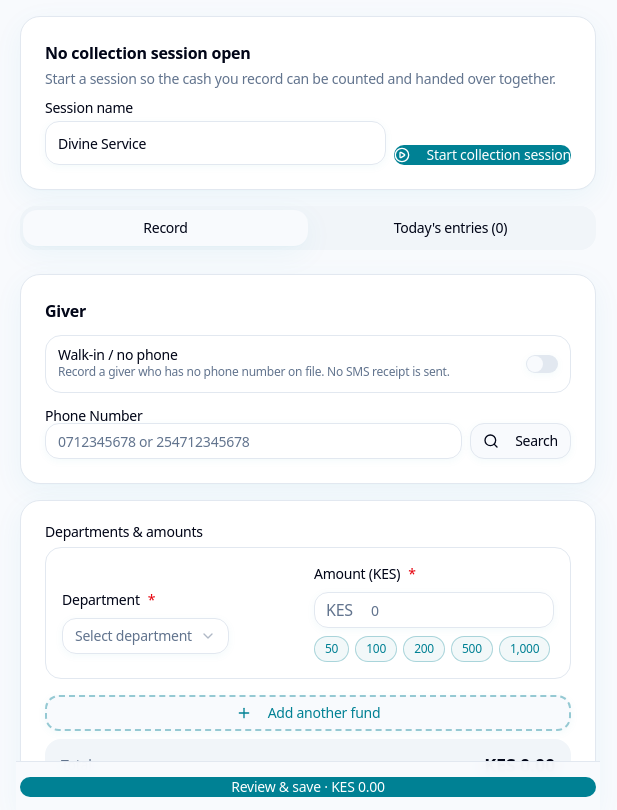
Test case: Collection session banner › starts a session named "Divine Service" by default
Check: the field labelled "Session name" holds "Divine Service", box [45, 121, 386, 165]
Step 1. Click the button "Start collection session" → (483, 155), box [394, 145, 571, 165]
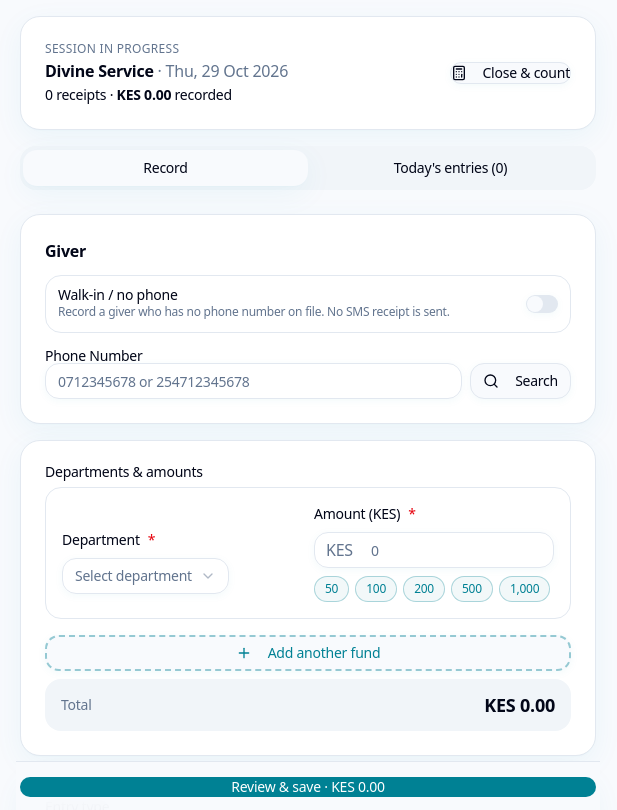
Check: the element with test id "session-name" shows "Divine Service", box [45, 60, 154, 82]
Check: the element with test id "session-totals" reads "0 receipts · KES 0.00 recorded", box [45, 85, 232, 104]
